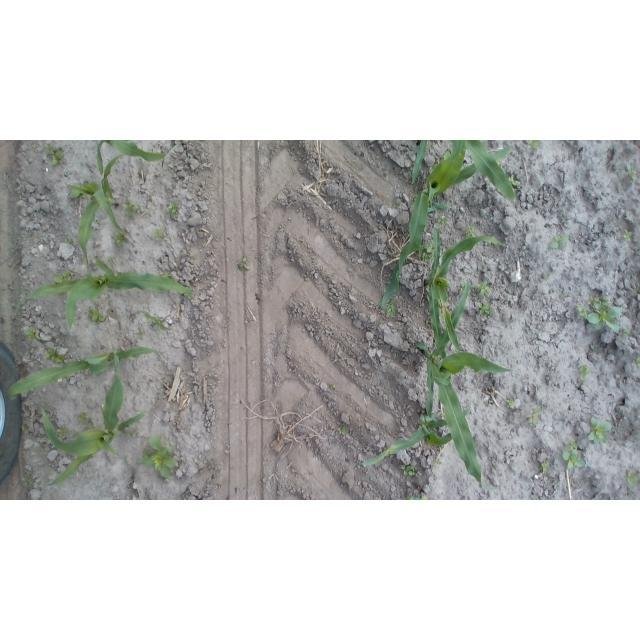Maize: (352, 301, 512, 498), (380, 141, 539, 315), (42, 342, 152, 494), (66, 142, 184, 273), (13, 256, 196, 337), (429, 222, 507, 374), (9, 344, 164, 401)
Weeds: (141, 431, 183, 479), (575, 294, 623, 334), (560, 437, 590, 471), (587, 417, 614, 447), (136, 310, 175, 330), (43, 146, 68, 167), (121, 201, 150, 219), (384, 298, 404, 322), (236, 253, 254, 279), (45, 347, 68, 366), (528, 405, 545, 430), (88, 307, 110, 326), (622, 161, 638, 187), (549, 231, 572, 249), (48, 265, 71, 283), (419, 241, 433, 268), (624, 468, 640, 489), (19, 474, 40, 490), (153, 225, 171, 243), (575, 360, 591, 380), (332, 425, 353, 440), (22, 325, 39, 343), (622, 226, 636, 247), (537, 455, 553, 473), (78, 410, 94, 428), (478, 281, 493, 300), (435, 213, 450, 232), (505, 394, 518, 413), (478, 303, 492, 320), (402, 464, 417, 479), (508, 175, 522, 190), (165, 203, 179, 217), (58, 421, 70, 437), (527, 140, 541, 153), (466, 225, 478, 239), (112, 236, 127, 247), (631, 354, 640, 372), (434, 455, 444, 468)
